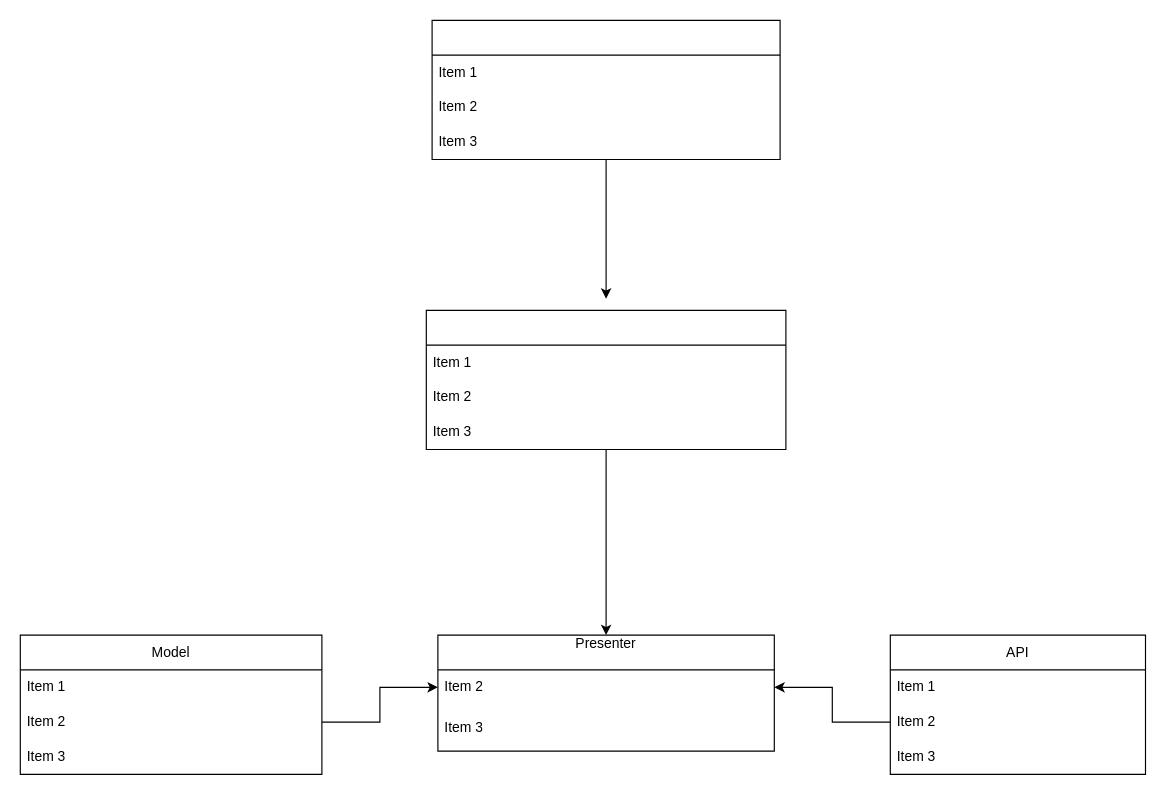
Some shapes in this 1166 by 795 pixel diagram are drawn without their labels. Here are the shapes that lost their labels. From the top down, the box of each, then its label:
(431, 19, 780, 160): Component
(425, 309, 786, 449): View
